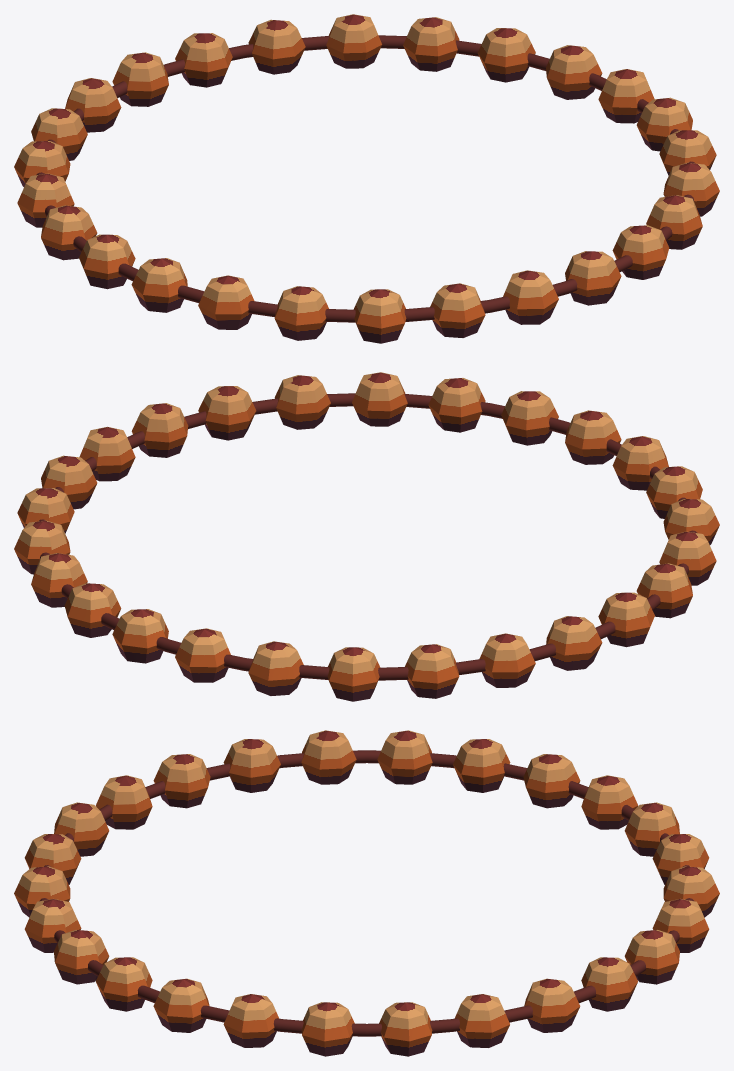
File: bracelet.glb
3 renders of one model, top to bottom at view 1: azimuth 30°, elevation 25°; view 2: azimuth 150°, elevation 25°; view 3: azimuth 270°, elevation 25°, orthographic.
Parts seen in each view (by area): view 1: Sphere, BézierCircle; view 2: Sphere, BézierCircle; view 3: Sphere, BézierCircle.
Part boxes in pixels (x1,y1,x2,y2): Sphere: (14,14,719,343); BézierCircle: (36,35,695,322); Sphere: (14,372,719,701); BézierCircle: (39,393,697,680); Sphere: (14,730,719,1056); BézierCircle: (39,750,694,1036).
Size of the model in its own units: 0.7199 by 0.0602 by 0.7257.
Materials: 2 (1 with a texture image).
